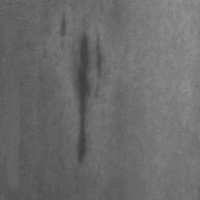inclusion: (70, 28, 110, 168)
